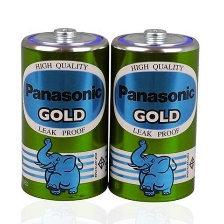battery: (105, 24, 201, 205), (18, 24, 110, 203)
